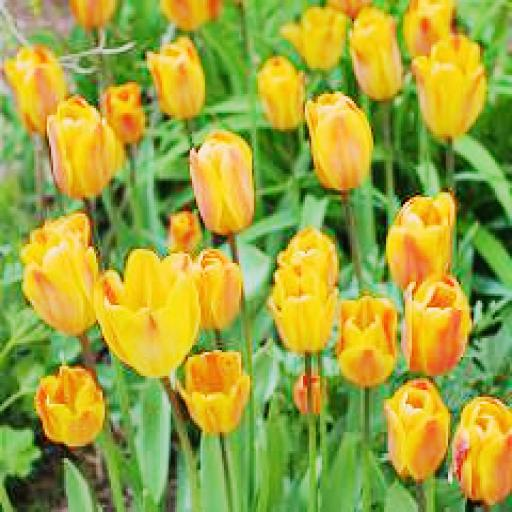tulip: (96, 251, 201, 376), (22, 214, 100, 331), (414, 33, 488, 134), (301, 89, 373, 190), (188, 127, 256, 232), (47, 96, 119, 195), (380, 380, 452, 474), (404, 275, 470, 376), (386, 188, 452, 284), (456, 394, 512, 502), (271, 266, 337, 346), (38, 366, 104, 444), (337, 298, 395, 385), (179, 352, 248, 425), (147, 36, 203, 110)
